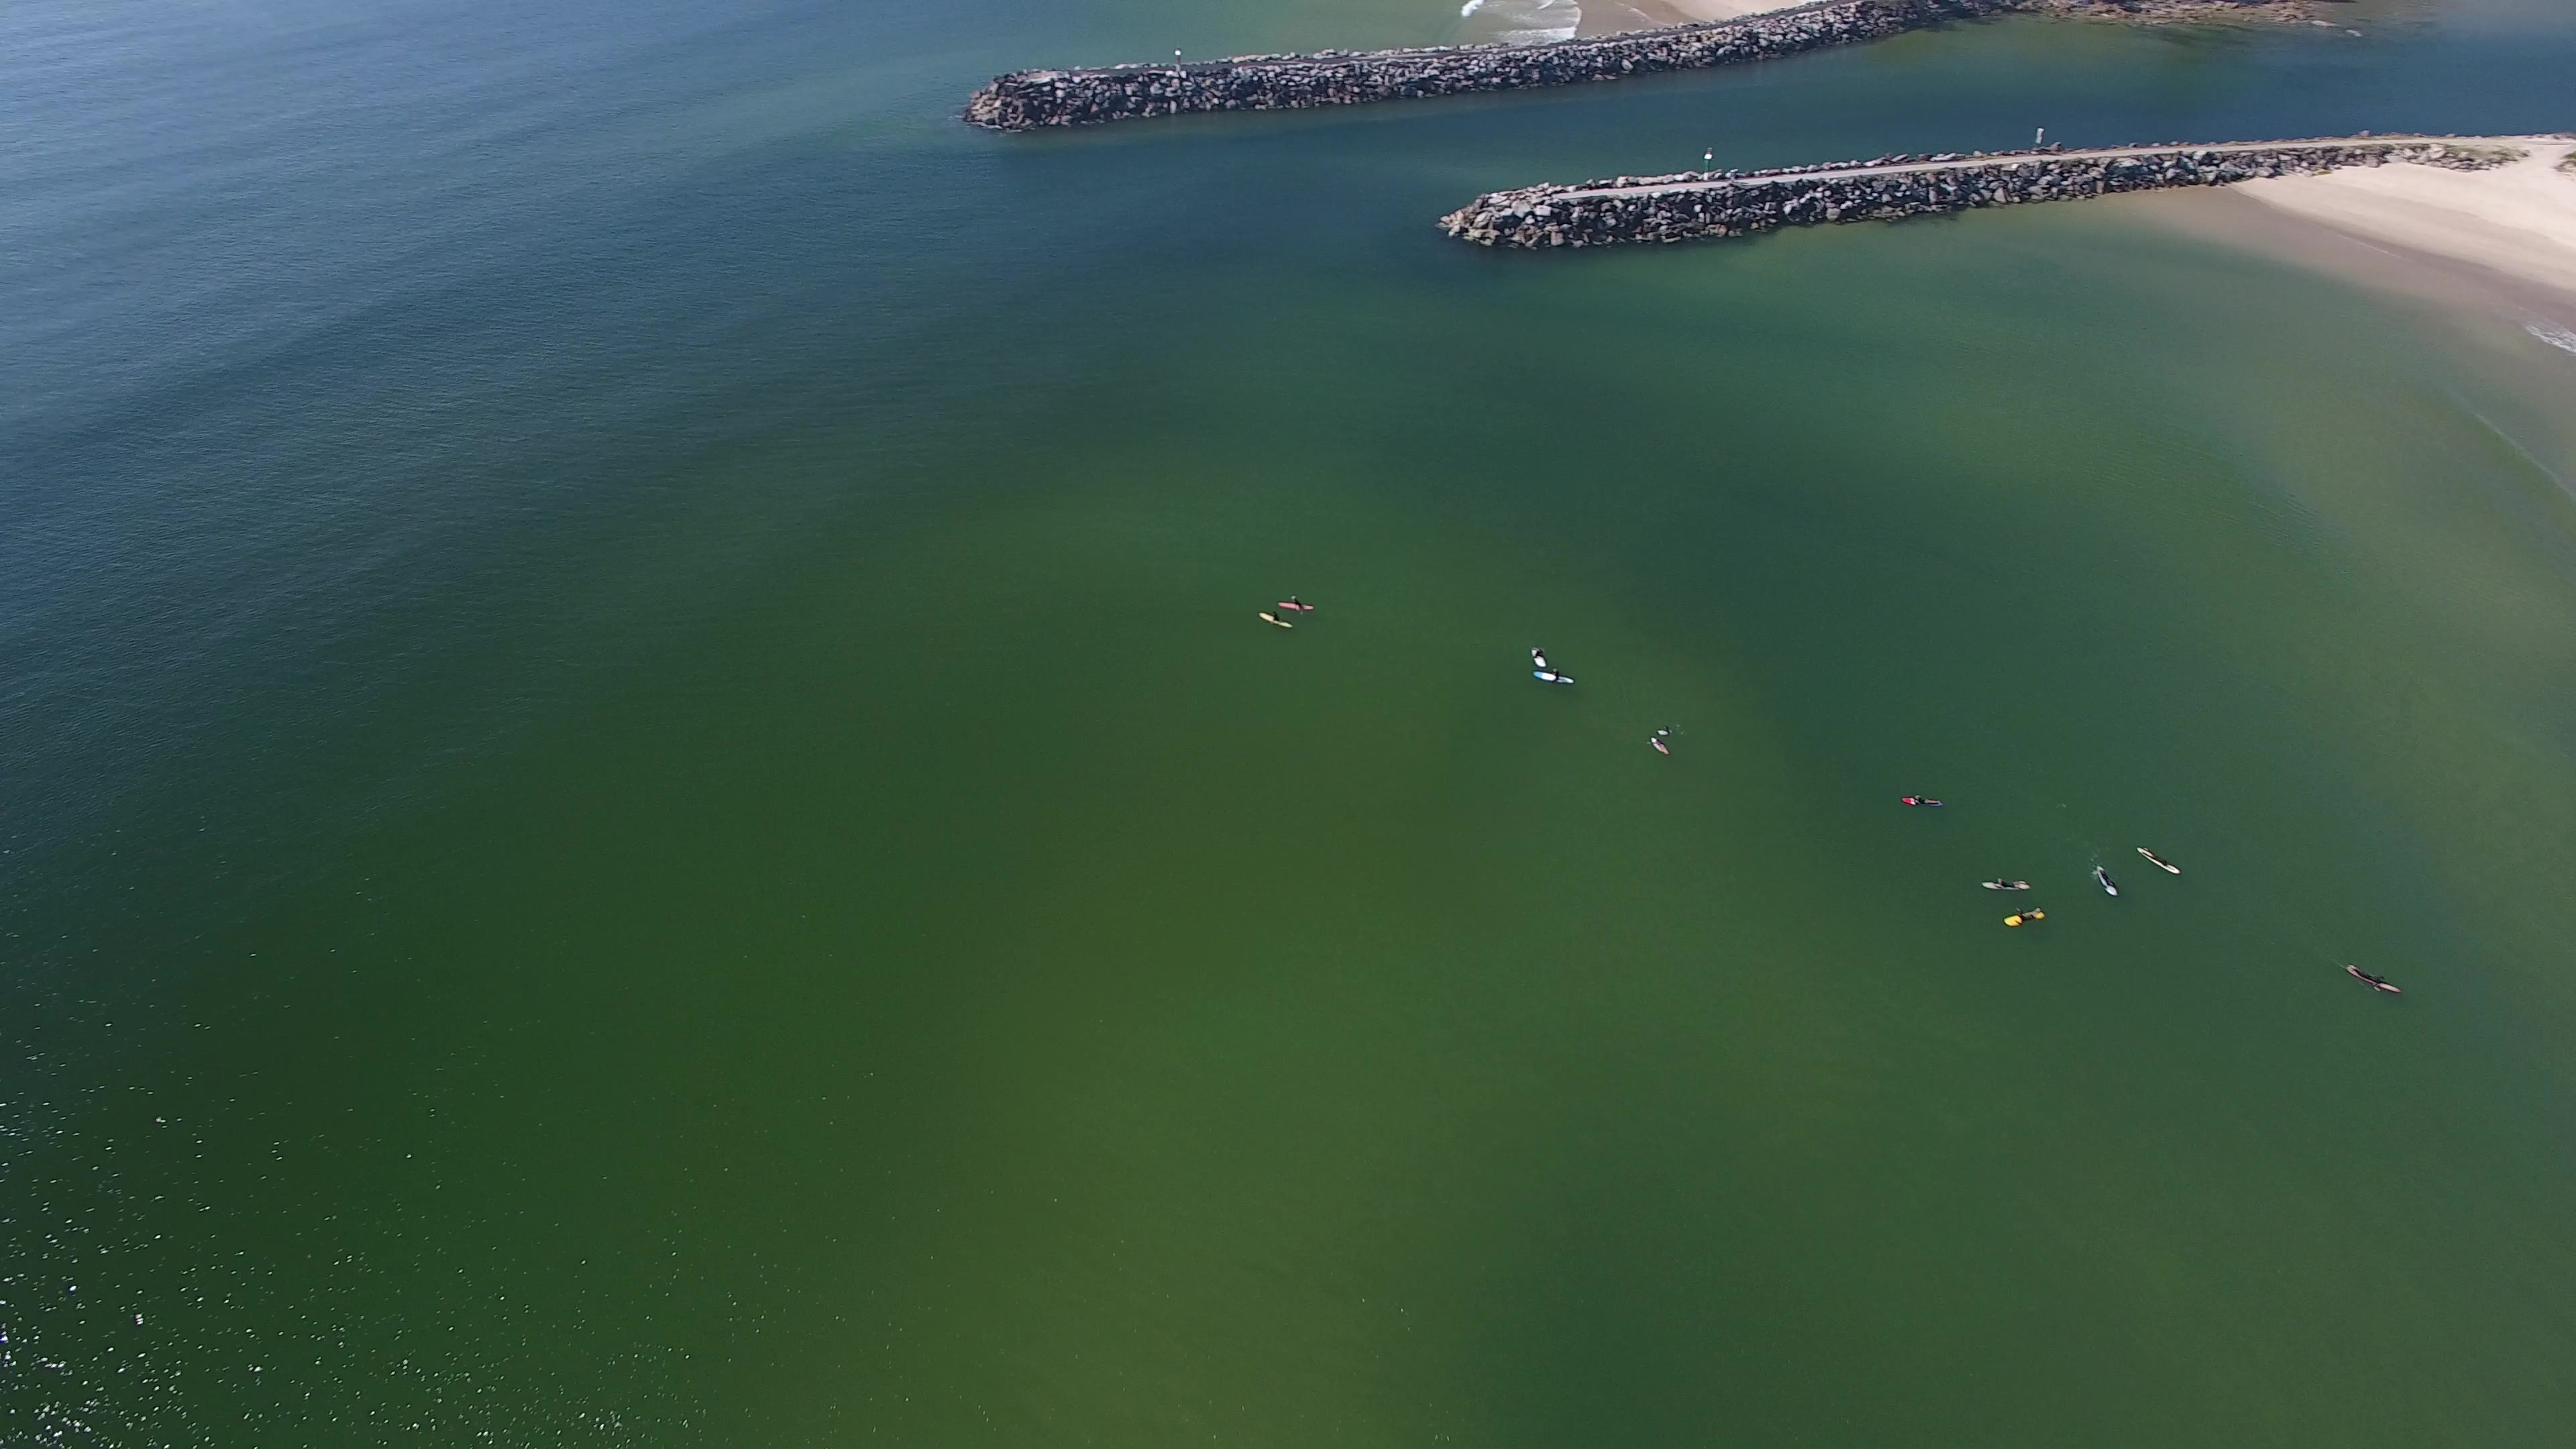surfer: (2341, 962, 2408, 1007), (2135, 840, 2185, 883), (2086, 856, 2125, 902), (2005, 904, 2054, 932), (1974, 874, 2035, 897), (1900, 793, 1951, 814), (1258, 609, 1299, 635), (1532, 671, 1578, 692), (1277, 591, 1316, 616), (1527, 644, 1555, 671), (1642, 738, 1672, 759), (1652, 727, 1677, 747)
